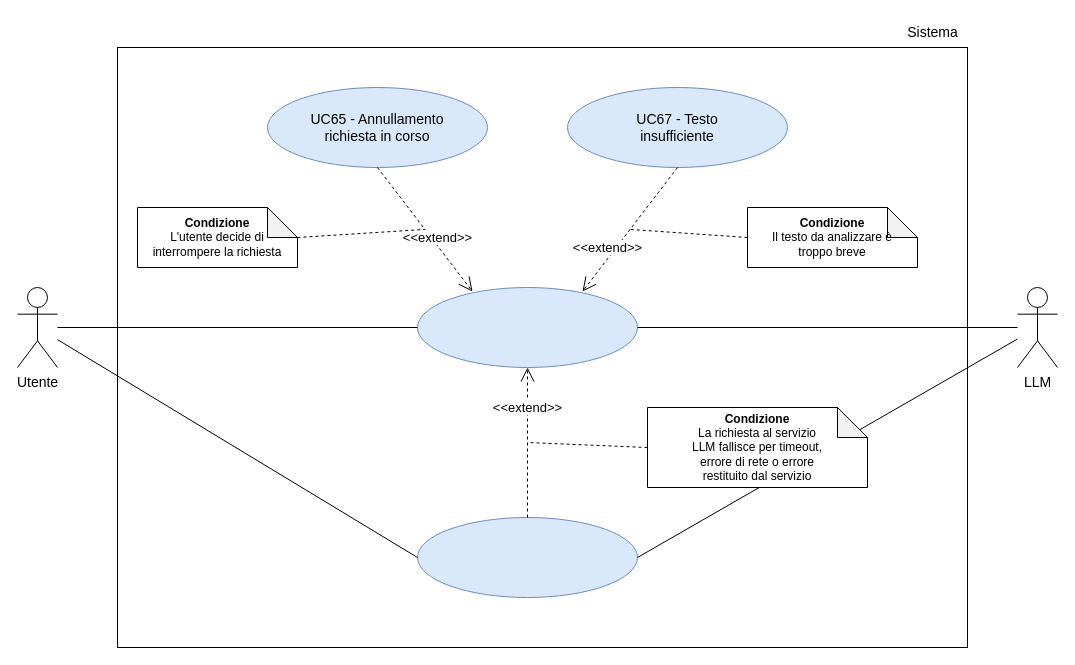
The diagram is 1075 pixels wide and 665 high, and some of its shapes have lost their labels. The centre of each missing label's shape, as x and y in pixels:
UC60 - Analisi critica del testo: (x=527, y=327)
UC66 - Errore LLM: (x=527, y=557)
